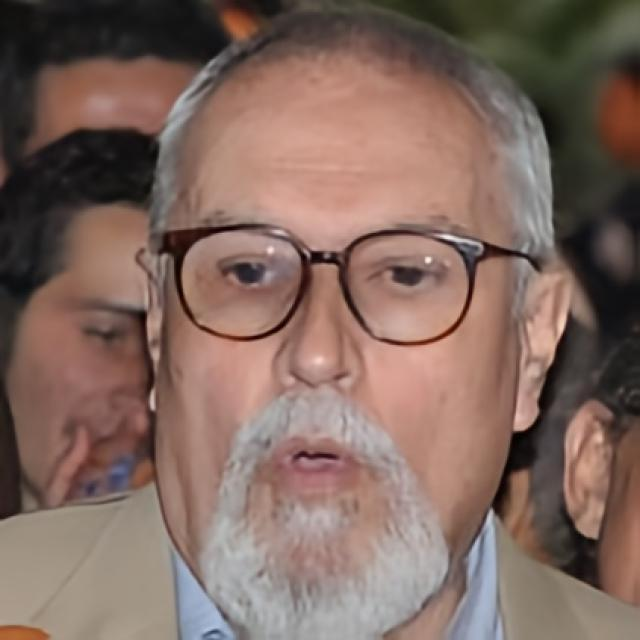surprise: (155, 26, 520, 640)
